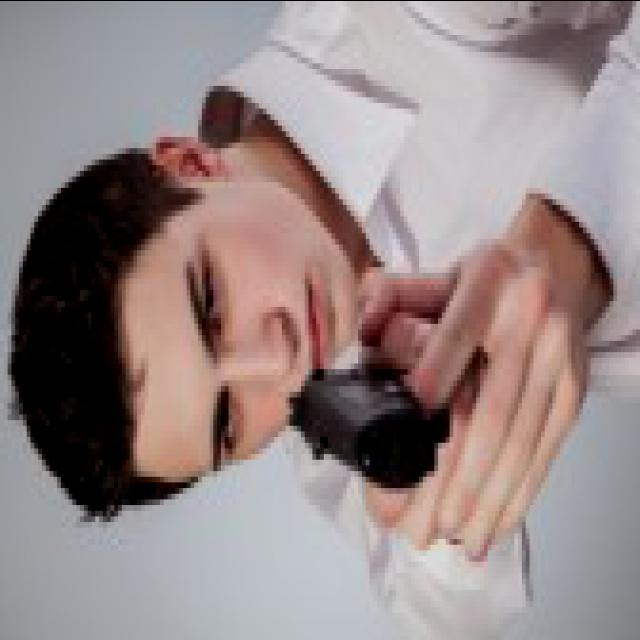handgun: (271, 362, 468, 504)
